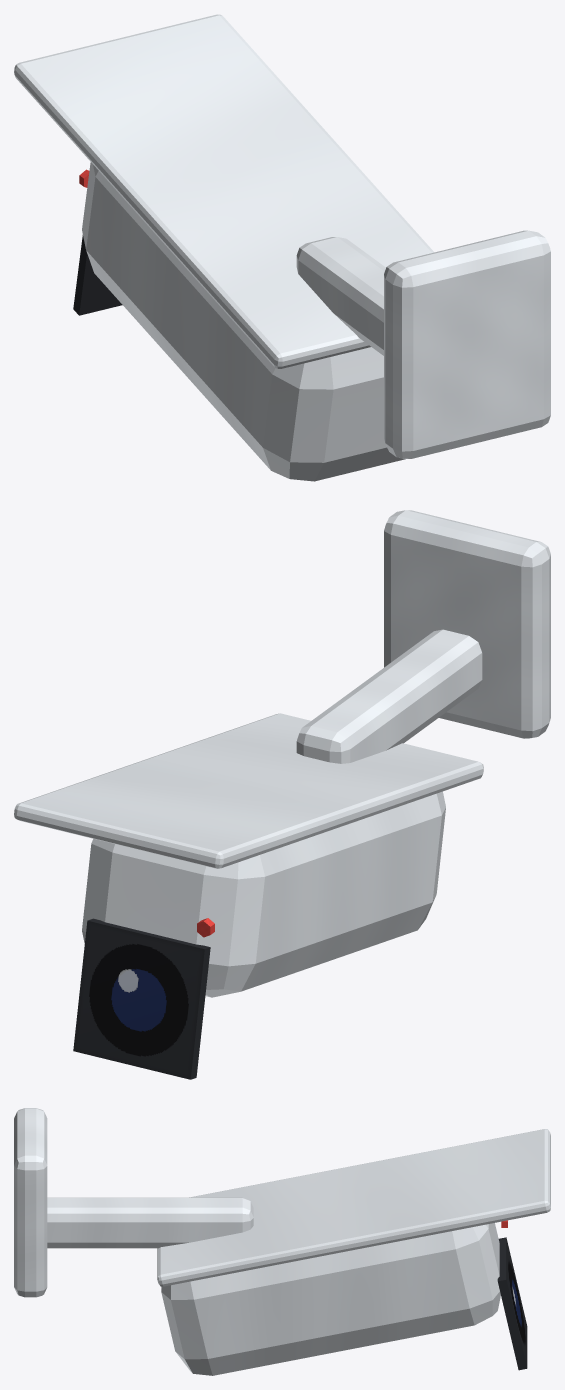
File: SW_Cctv.glb
3 renders of one model, top to bottom at view 1: azimuth 30°, elevation 25°; view 2: azimuth 150°, elevation 25°; view 3: azimuth 270°, elevation 25°, orthographic. The views are drawn at different scales.
Parts seen in each view (by area): view 1: Camera; view 2: Camera; view 3: Camera.
Part boxes in pixels (box(x1,y1,x2,y2)): Camera: box(14, 14, 550, 481); Camera: box(14, 510, 550, 1079); Camera: box(14, 1108, 550, 1375).
Bounding box in the file's own units: 0.16 × 0.2236 × 0.4815.
Materials: 1 (1 with a texture image).
